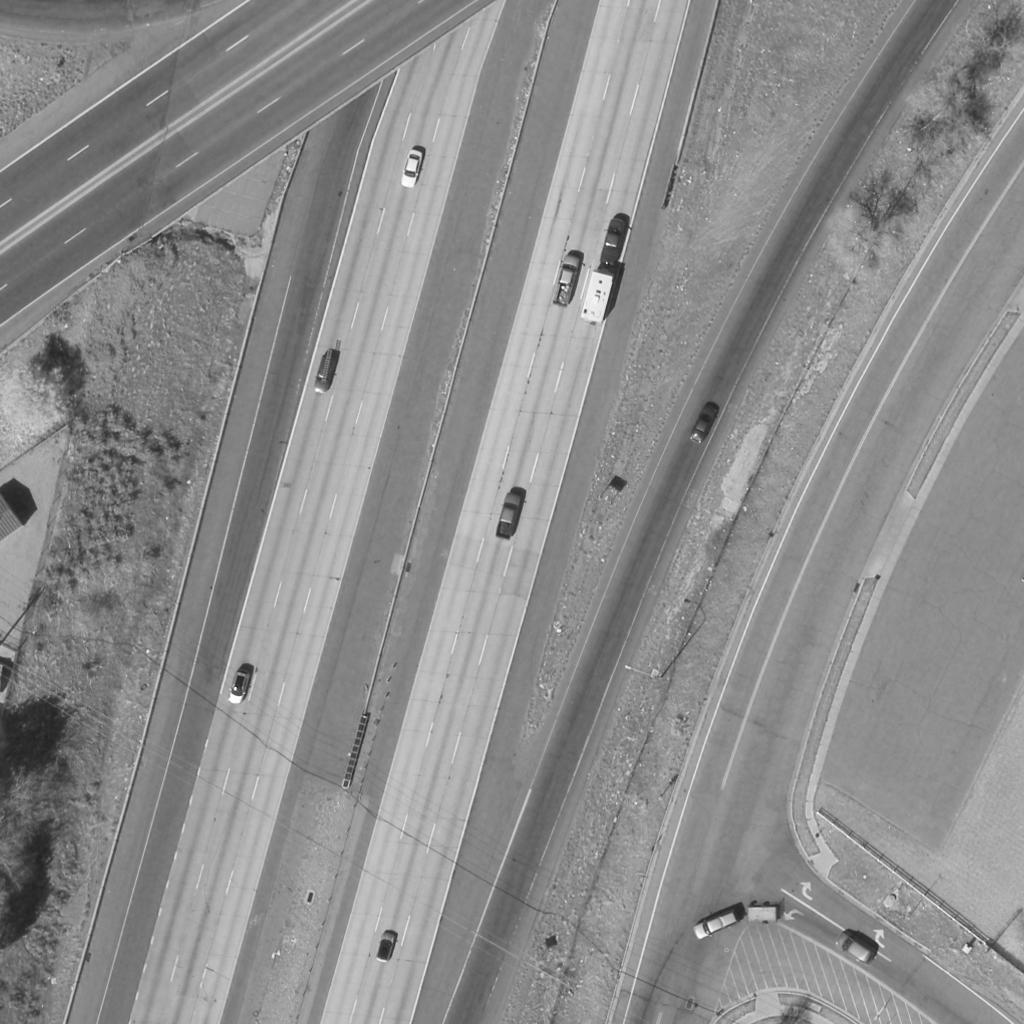vehicle: (580, 268, 614, 326), (553, 253, 583, 307), (834, 931, 878, 967), (691, 909, 739, 941), (688, 402, 720, 446), (495, 492, 523, 540), (603, 218, 627, 266), (401, 148, 427, 188), (226, 669, 252, 707), (315, 356, 335, 394), (376, 931, 398, 963)
